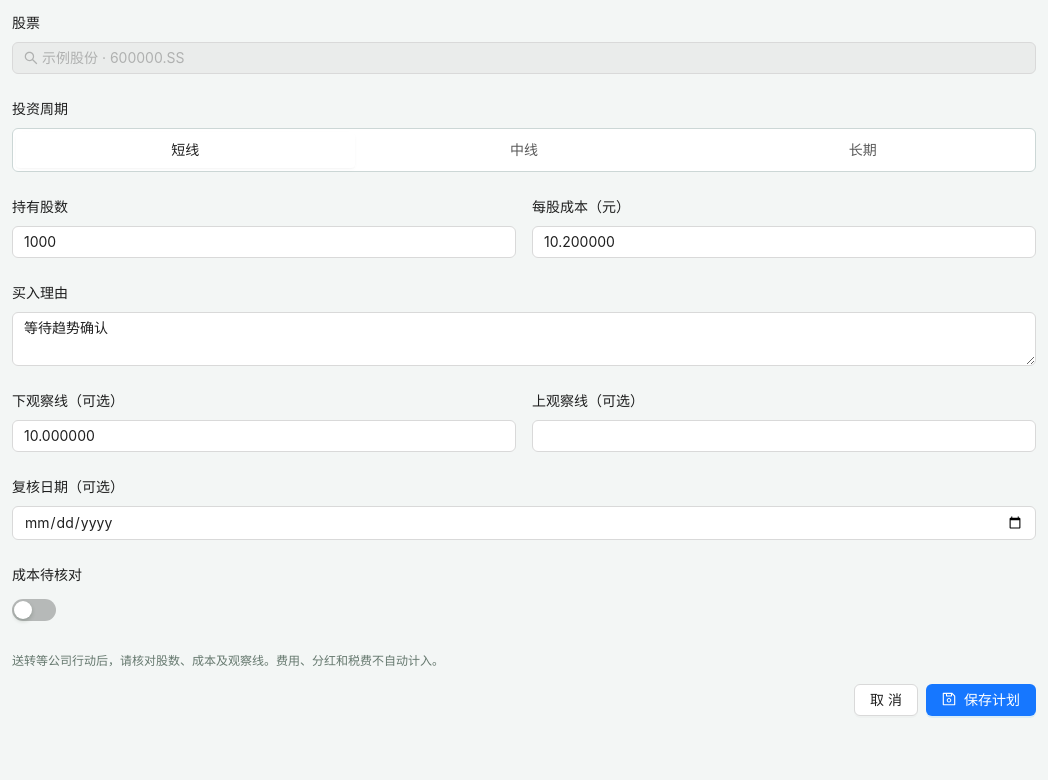
preserves entered fields after a revision conflict
Replace the text in the text box labelled "买入理由" with "保留这个理由" at (524, 339), box [12, 312, 1036, 366]
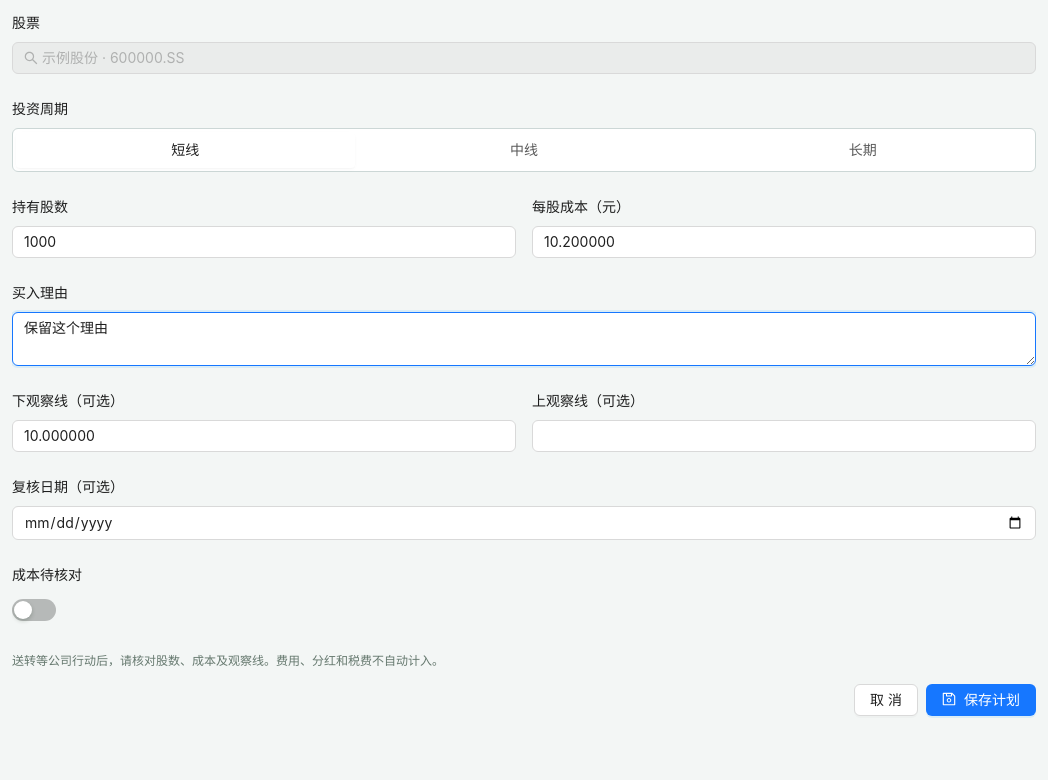
Click the button "保存计划" at (981, 700), box [926, 684, 1036, 716]
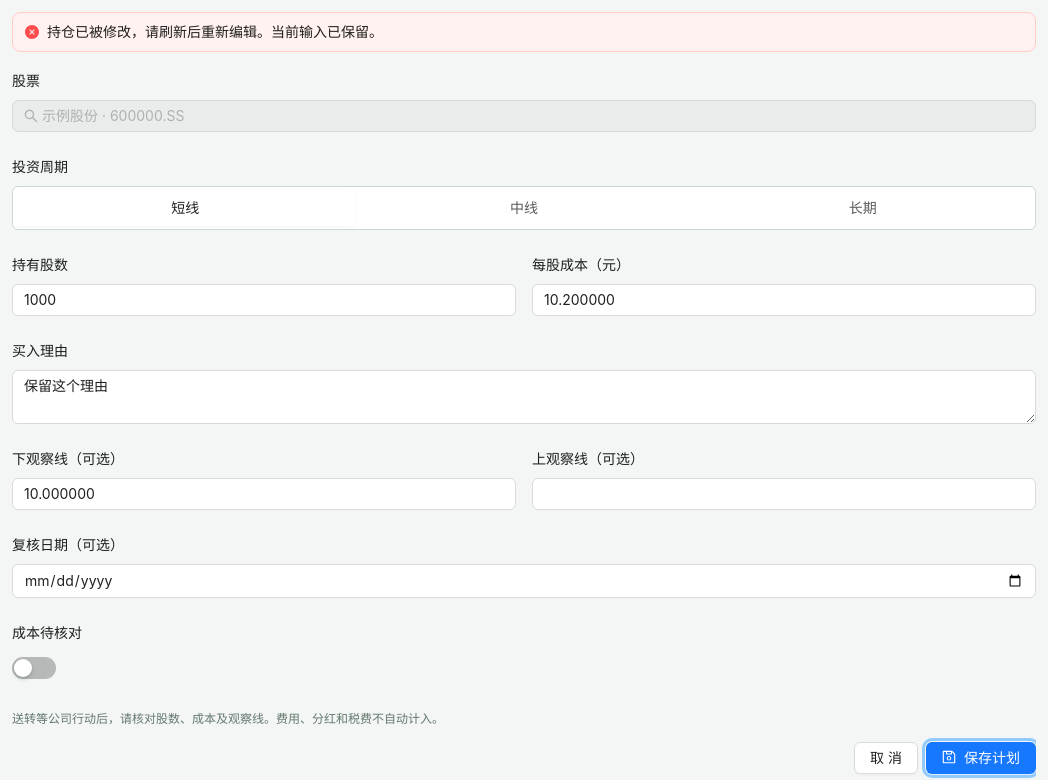
Expected: the text "持仓已被修改，请刷新后重新编辑。当前输入已保留。" is shown, [47, 23, 383, 40]
